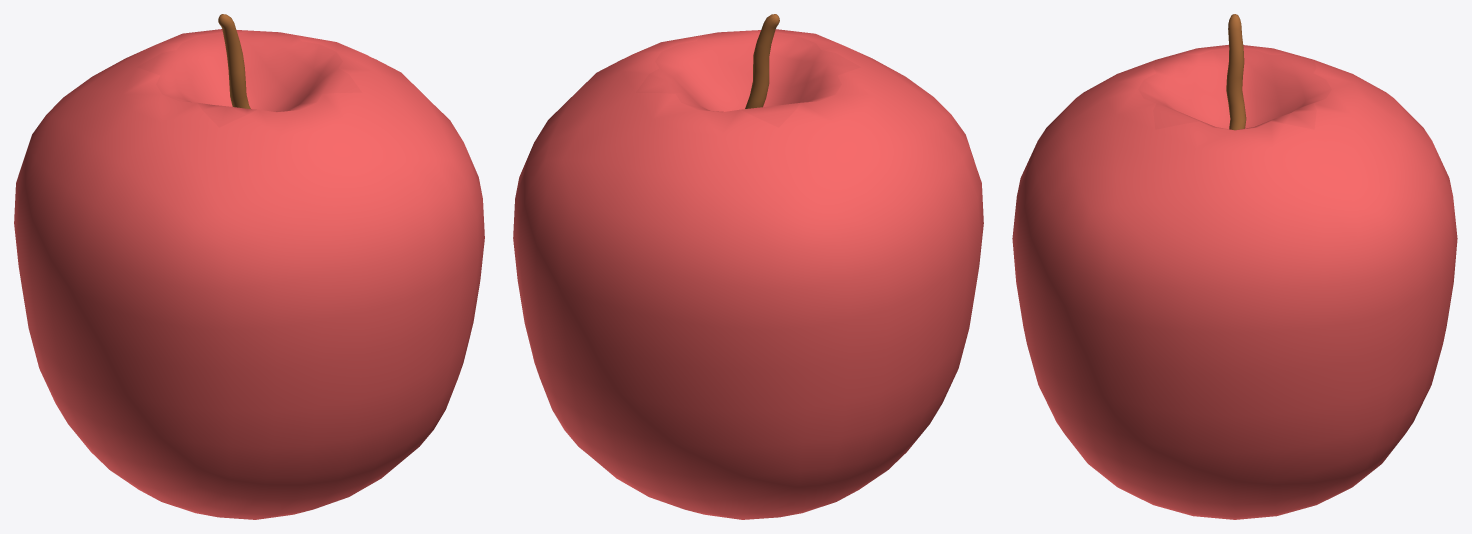
Rendered from apple.fbx.
3 renders of one model, left to right at view 1: azimuth 30°, elevation 25°; view 2: azimuth 150°, elevation 25°; view 3: azimuth 270°, elevation 25°, orthographic. The views are drawn at different scales.
Parts seen in each view (by area): view 1: Apple; view 2: Apple; view 3: Apple.
Boxes of the visible parts, box(x1,y1,x2,y2) form: Apple: box(14, 14, 484, 519); Apple: box(513, 14, 983, 519); Apple: box(1012, 14, 1457, 519).
Bounding box in the file's own units: 2.24 × 2.62 × 2.24.
